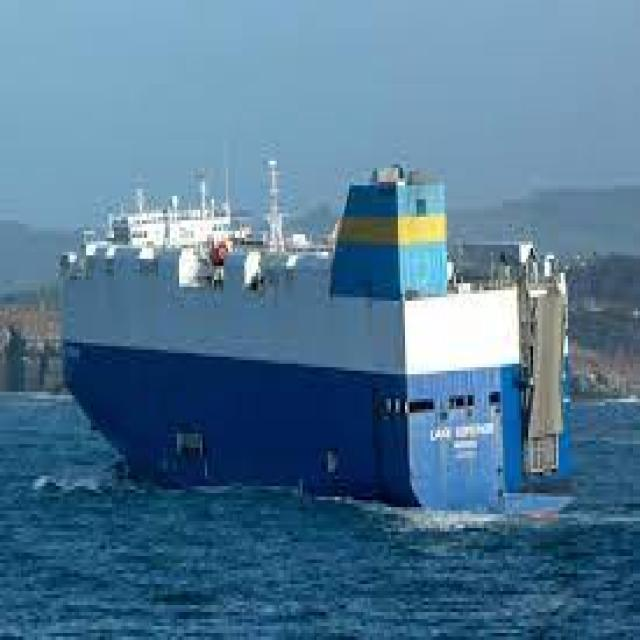cargoship: (55, 165, 568, 515)
